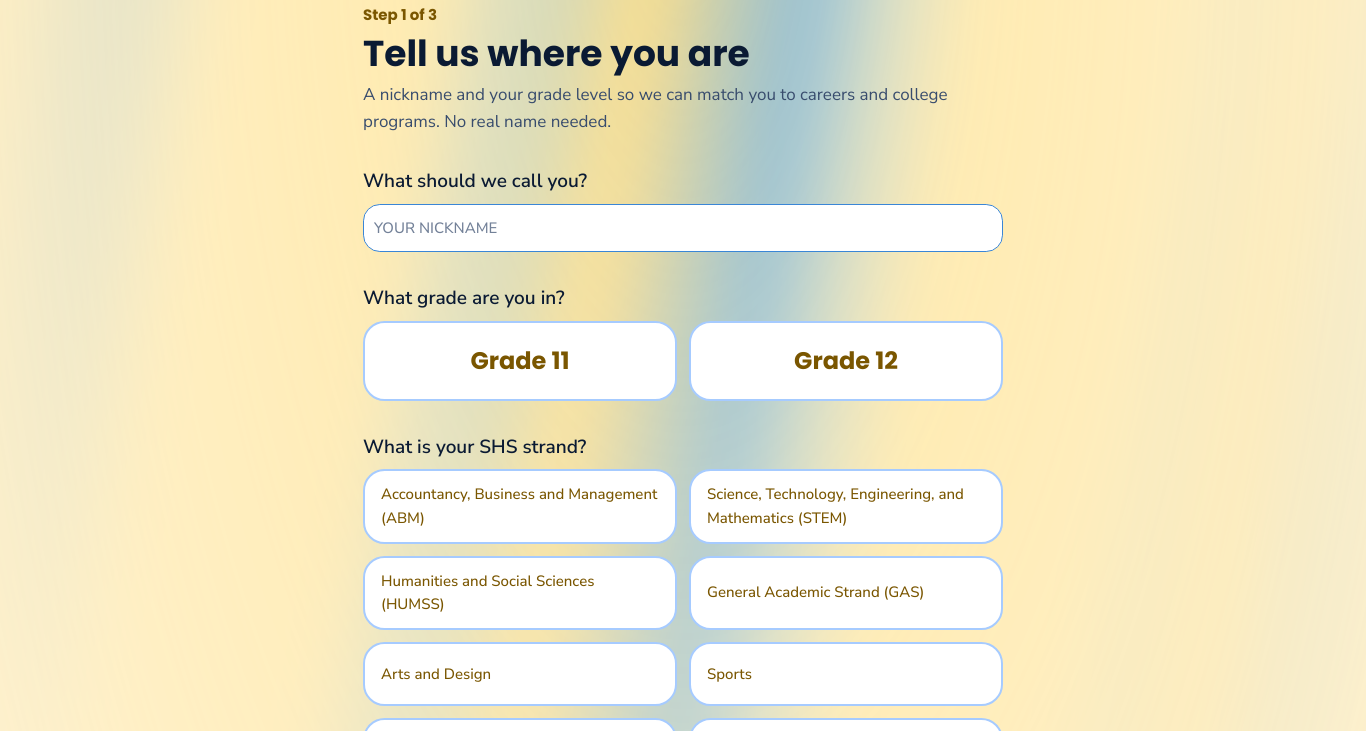
Scenario: ProfileForm privacy consent › blocks the assessment until the privacy notice is agreed to
Type "MARI" into the field labelled "What should we call you?". click: (683, 228)
box: [363,204,1003,252]
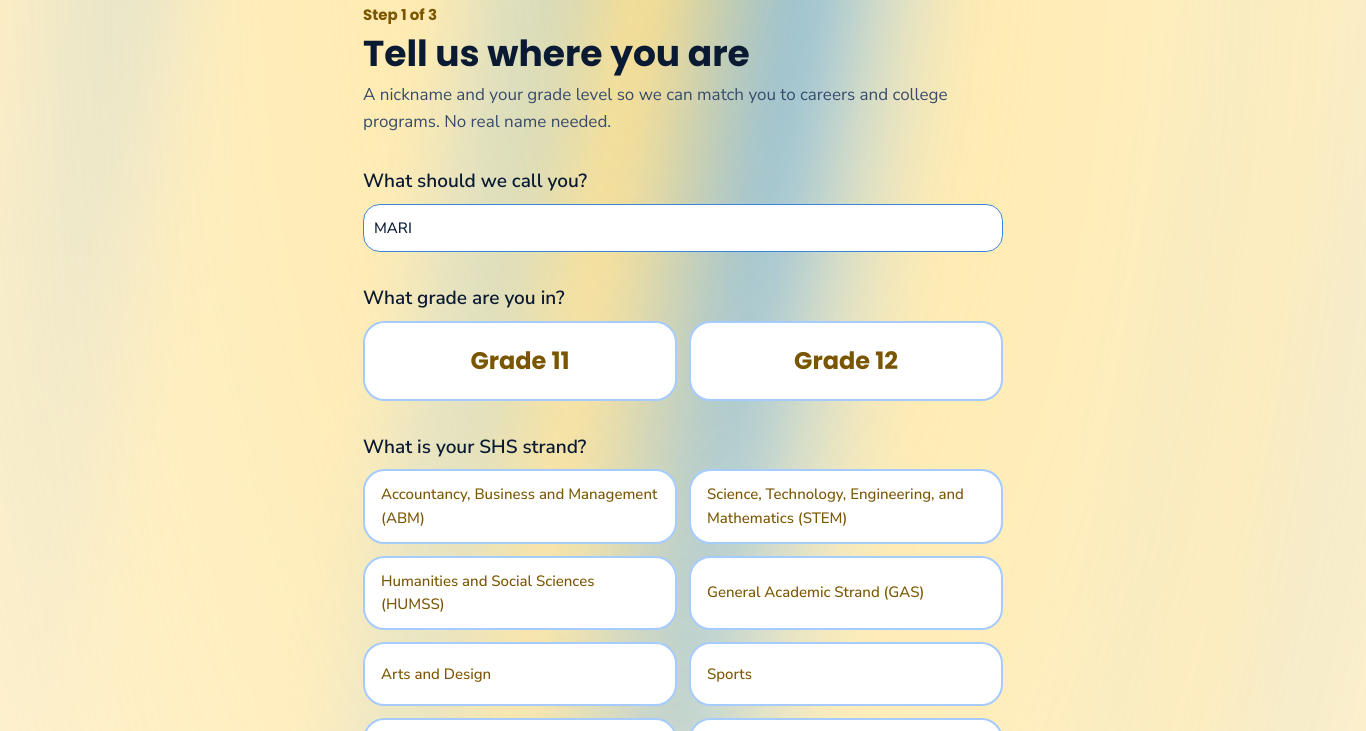
Click the radio button labelled "Grade 12". click: (846, 361)
box: [689,321,1003,401]
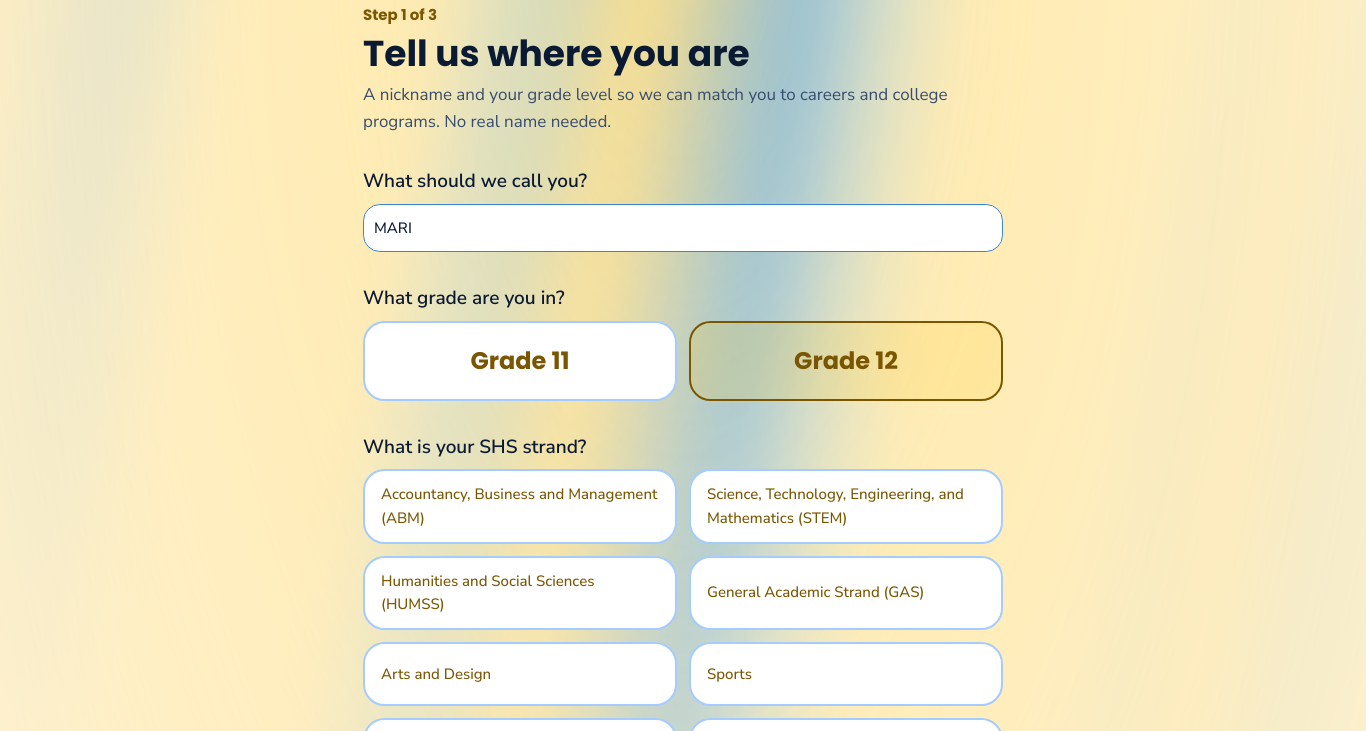
Click the radio button labelled "Science, Technology, Engineering, and Mathematics (STEM)". click: (846, 507)
box: [689,469,1003,544]
(page scrolled)
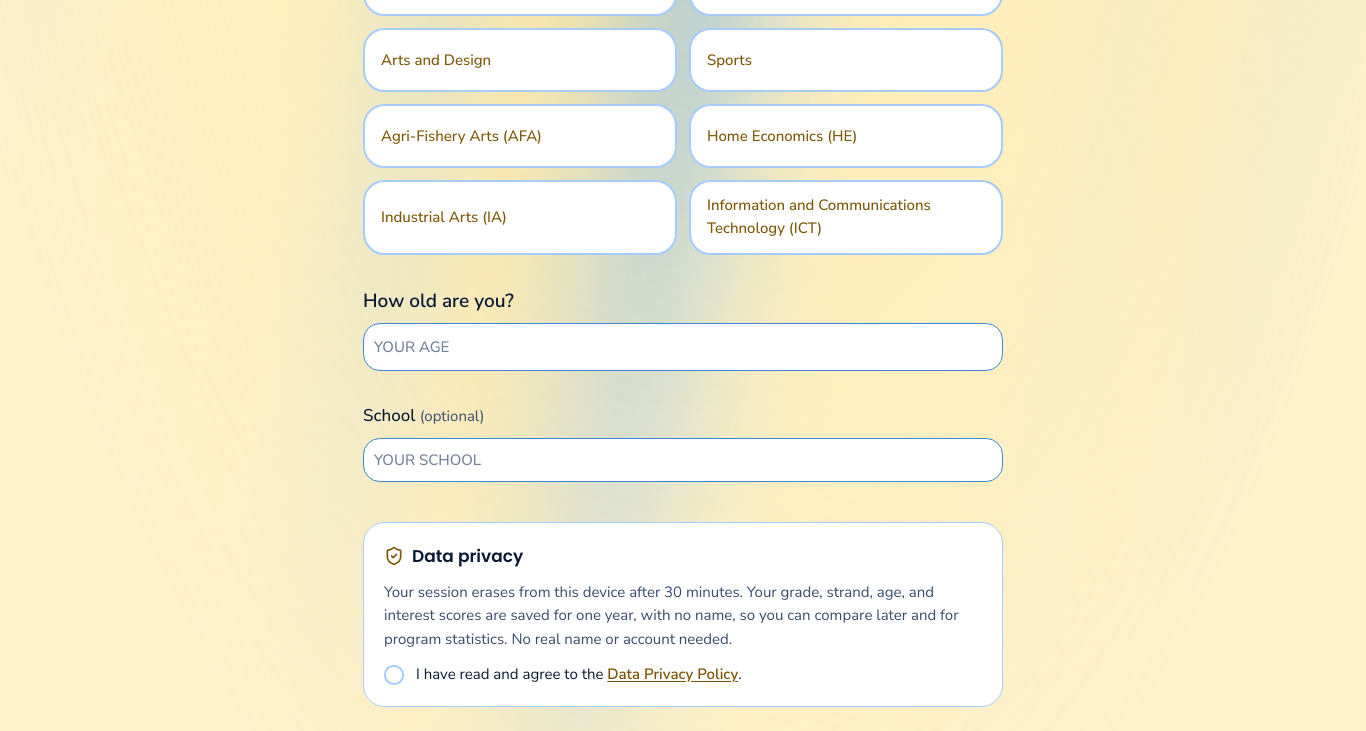
Type "17" into the number field labelled "How old are you?". click: (683, 347)
box: [363,323,1003,371]
(page scrolled)
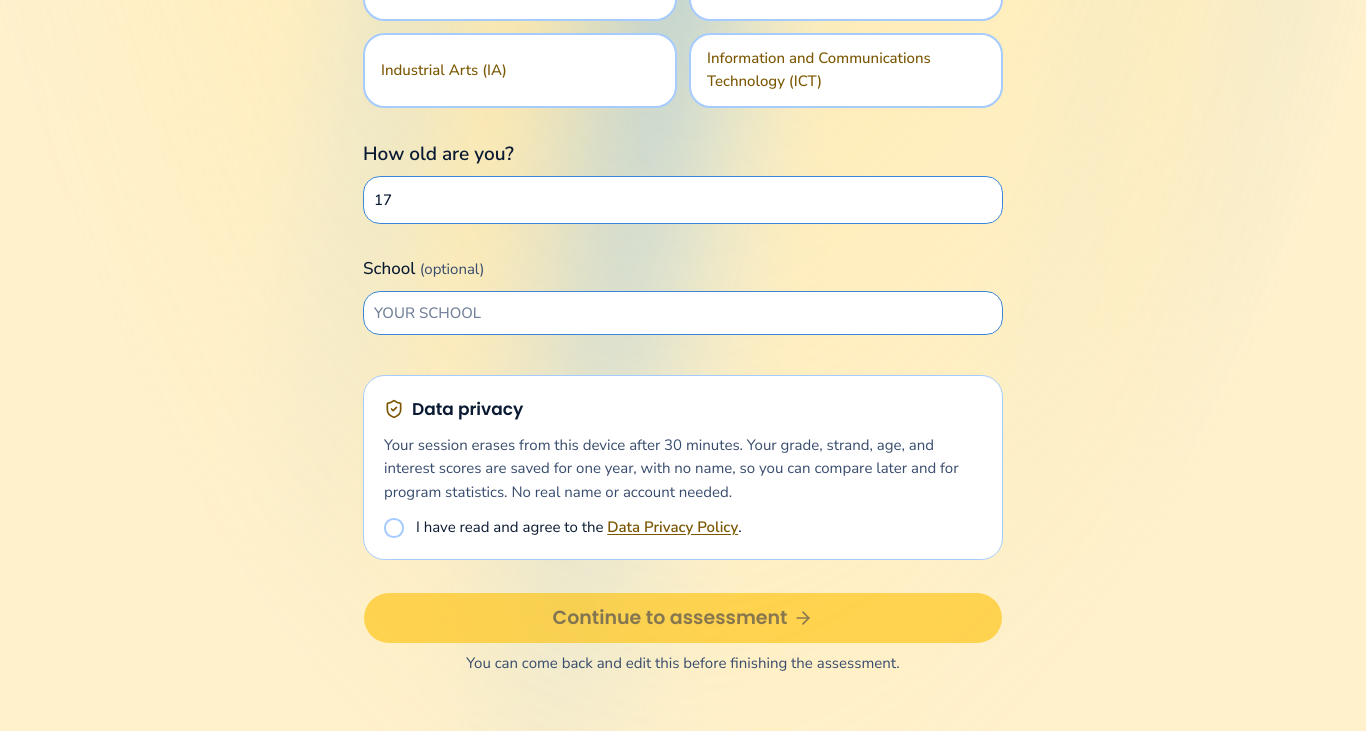
Click the button "Continue to assessment". click: (683, 618)
box: [363,592,1003,644]
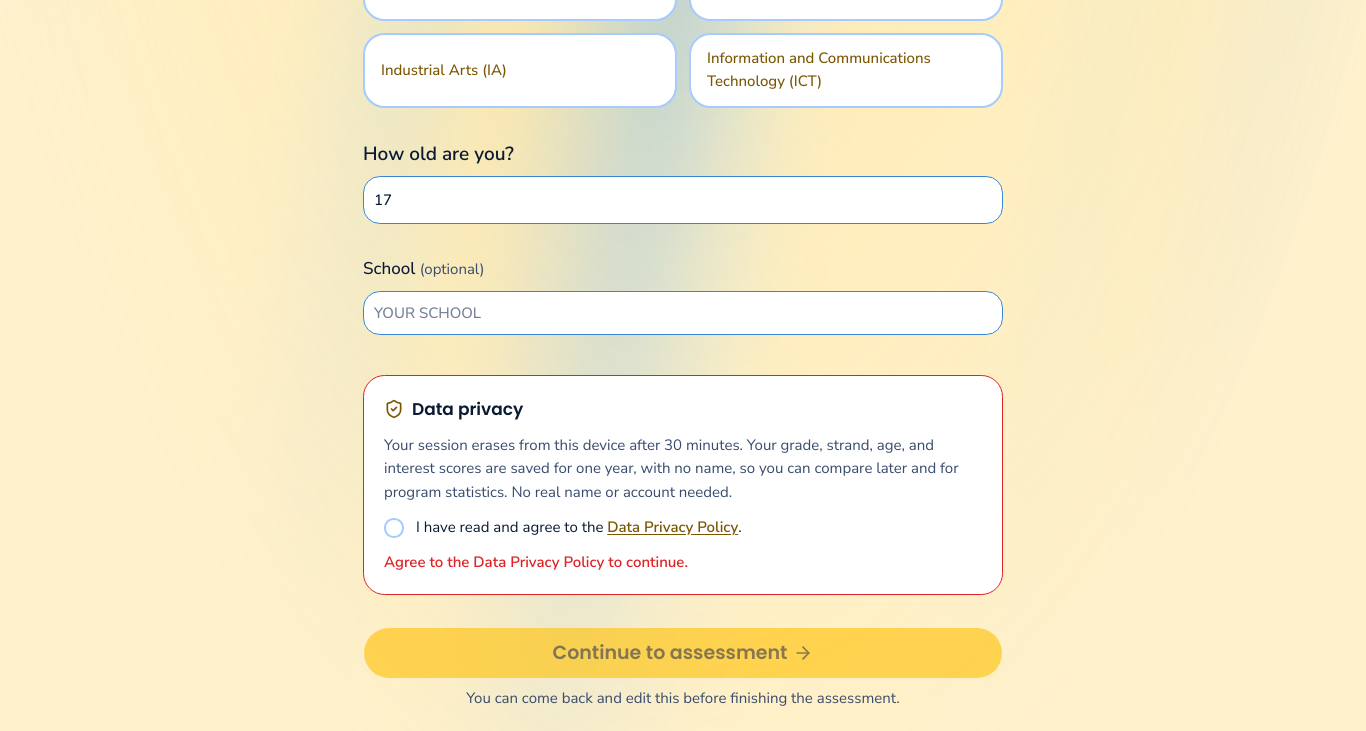
expect the text "Agree to the Data Privacy Policy to continue." is shown: met, box [384,552,688,572]
